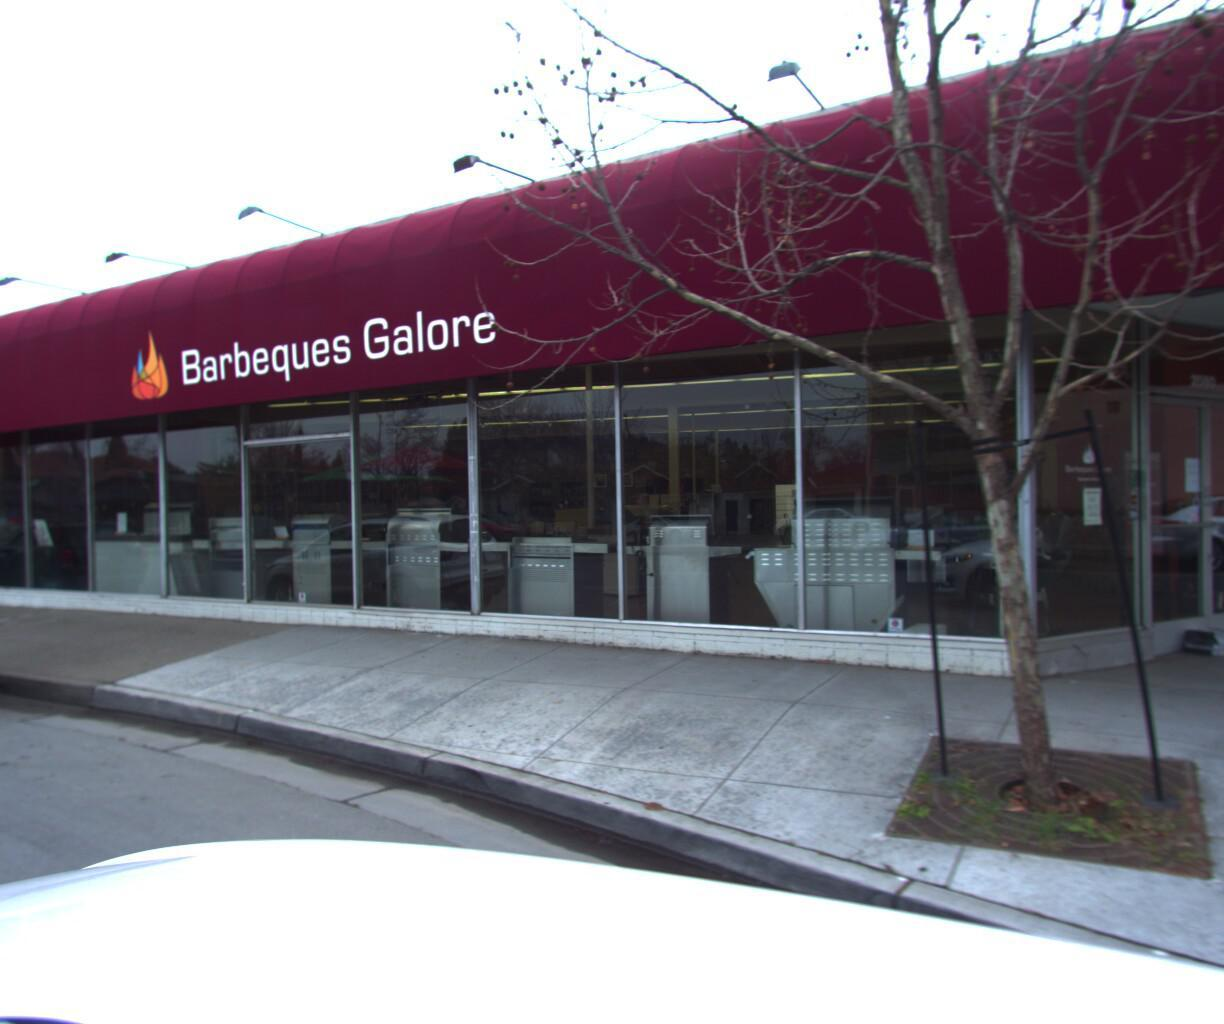car: (1180, 437, 1224, 607), (0, 513, 14, 755)
